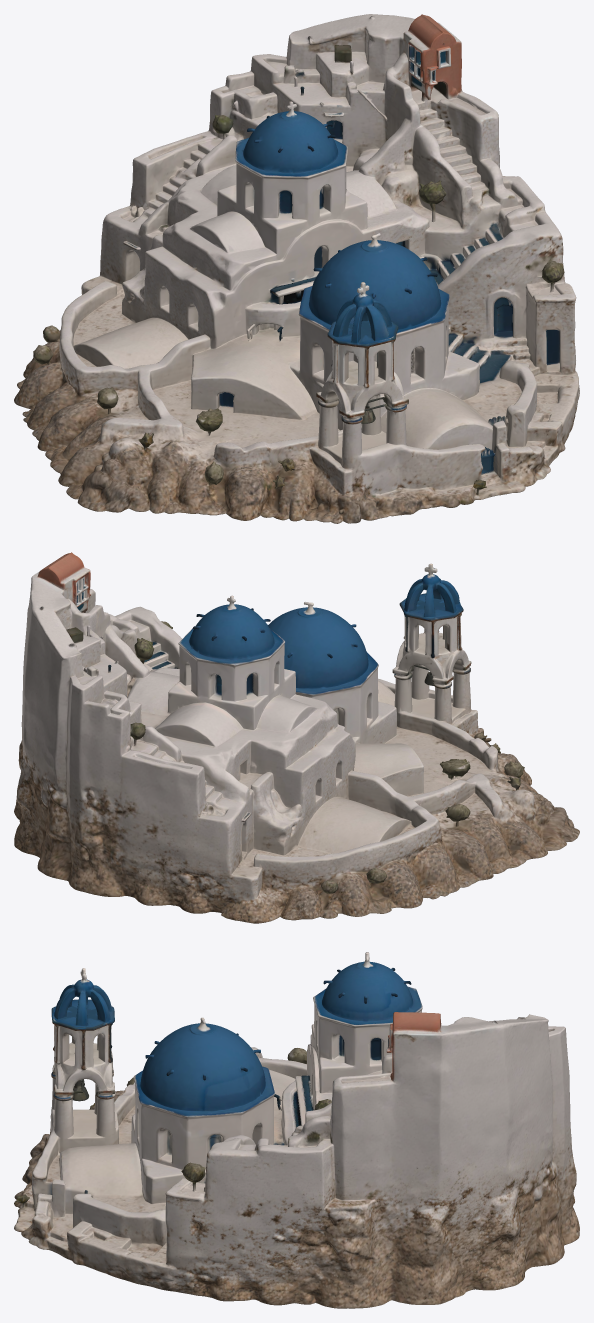
The model's file is santorini-memory.glb.
3 renders of one model, top to bottom at view 1: azimuth 30°, elevation 25°; view 2: azimuth 150°, elevation 25°; view 3: azimuth 270°, elevation 25°, orthographic. The views are drawn at different scales.
Visible parts, largest first — view 1: tripo_node_8b6b5090-edda-444d-ab05-2df877f826d8; view 2: tripo_node_8b6b5090-edda-444d-ab05-2df877f826d8; view 3: tripo_node_8b6b5090-edda-444d-ab05-2df877f826d8.
Part boxes in pixels (left/top/right/bottom): tripo_node_8b6b5090-edda-444d-ab05-2df877f826d8: left=14, top=14, right=579, bottom=523; tripo_node_8b6b5090-edda-444d-ab05-2df877f826d8: left=14, top=552, right=579, bottom=923; tripo_node_8b6b5090-edda-444d-ab05-2df877f826d8: left=14, top=952, right=579, bottom=1308.
Bounding box in the file's own units: 1.19 × 0.6291 × 1.18.
1 material, 1 textured.
